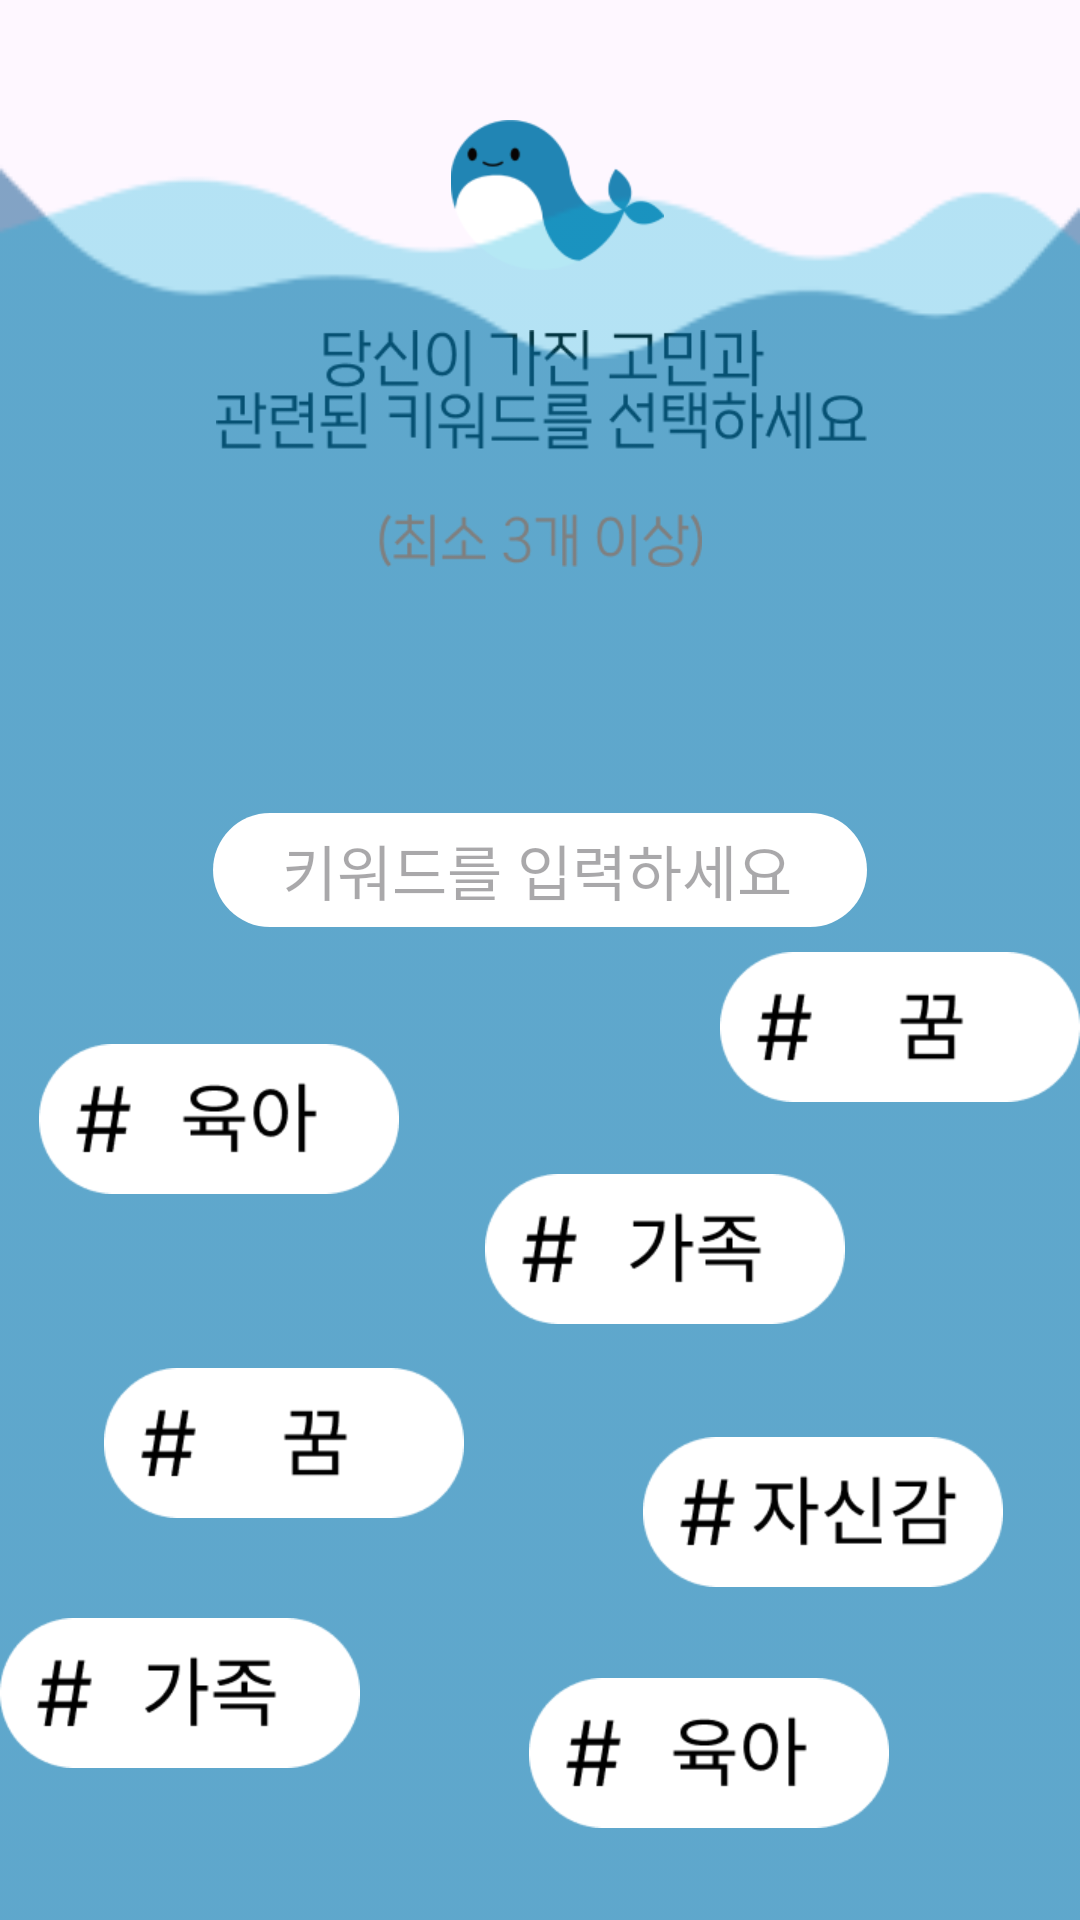

Screen size 1080 x 1920. Icon name, then its center in pixels as point (x, y):
whaleimg: point (557, 195)
